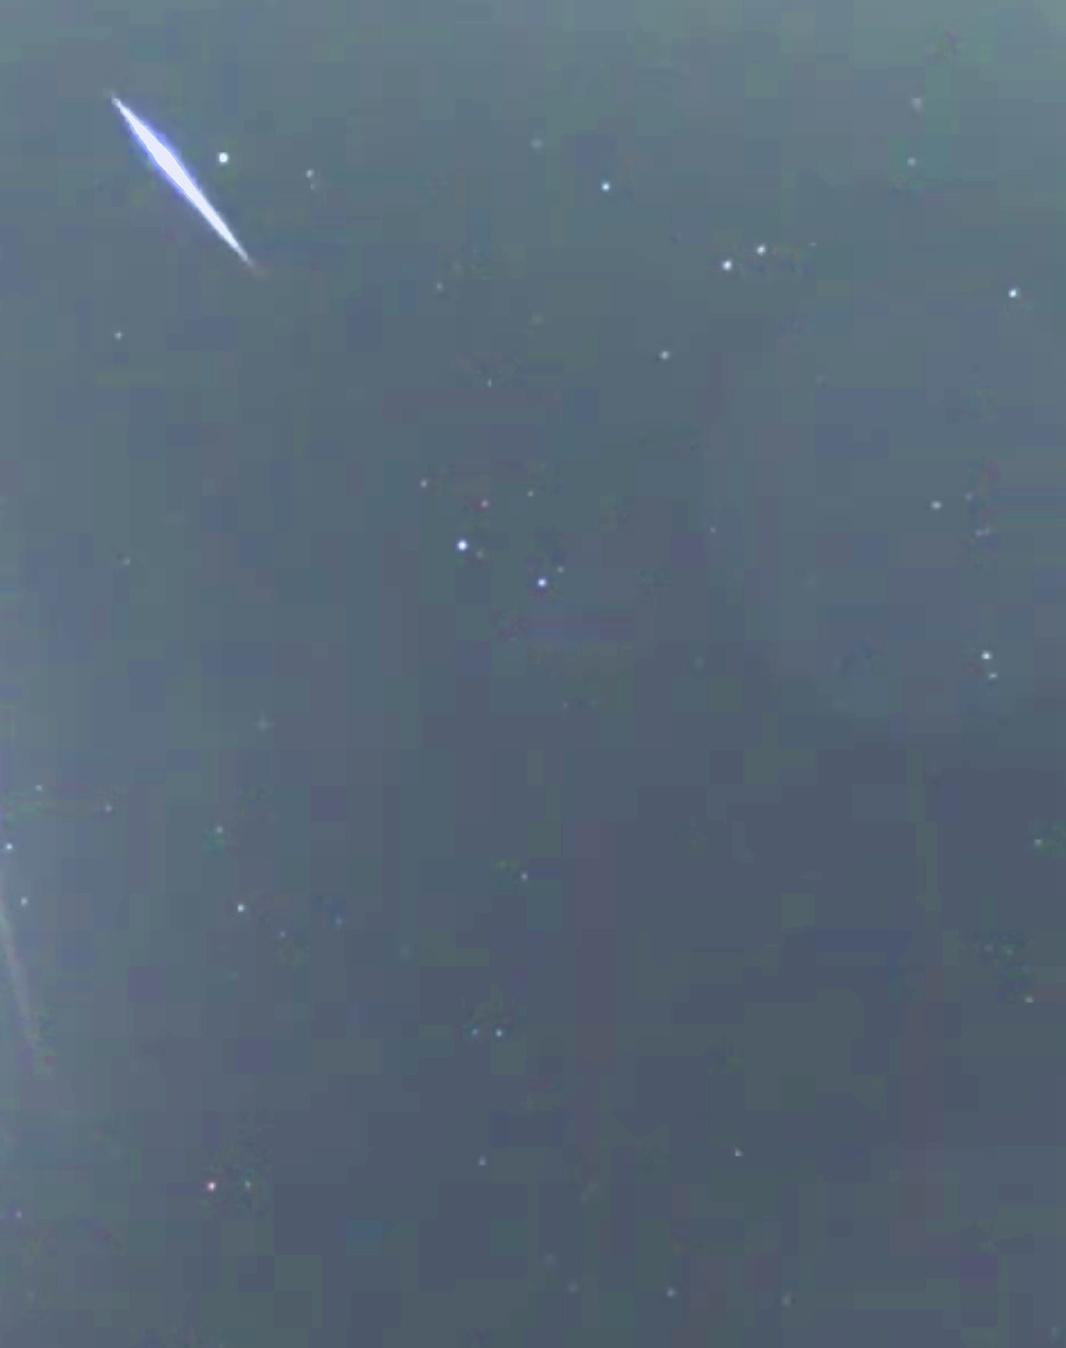meteorite: (86, 67, 302, 302)
